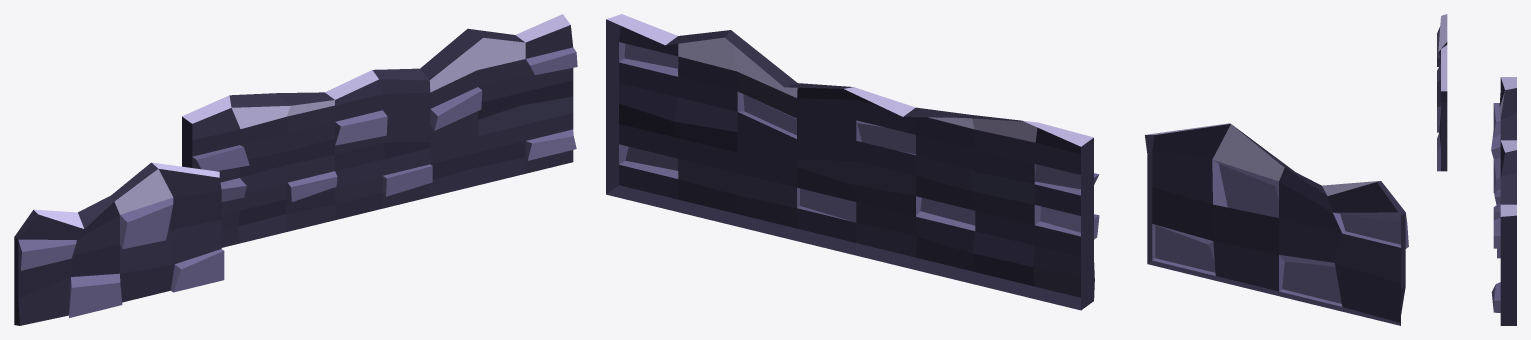
Rendered from background.fbx.
3 renders of one model, left to right at view 1: azimuth 30°, elevation 25°; view 2: azimuth 150°, elevation 25°; view 3: azimuth 270°, elevation 25°, orthographic. The views are drawn at different scales.
Parts seen in each view (by area): view 1: background_02, background_01; view 2: background_02, background_01; view 3: background_02, background_01.
Boxes of the visible parts, x1,y1,x2,y2 form: background_02: (182,14,577,247); background_01: (14,162,224,325); background_02: (606,14,1099,310); background_01: (1145,123,1408,325); background_02: (1491,77,1516,325); background_01: (1437,14,1447,171).
Bounding box in the file's own units: 13764 × 3309 × 2046.
